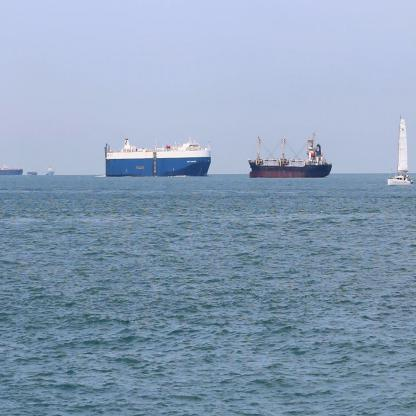Container Ship: (103, 133, 214, 180), (246, 128, 334, 182), (0, 162, 25, 178), (44, 163, 55, 178)
